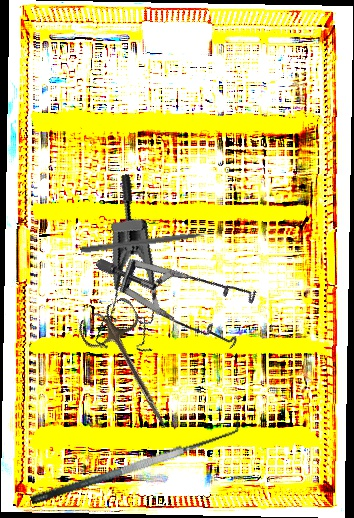Iris Scissors: (74, 294, 194, 442)
Pusher: (80, 229, 223, 255)
Spatula Surgical: (24, 413, 246, 507)
Speculum: (94, 196, 275, 384), (49, 172, 185, 367)
